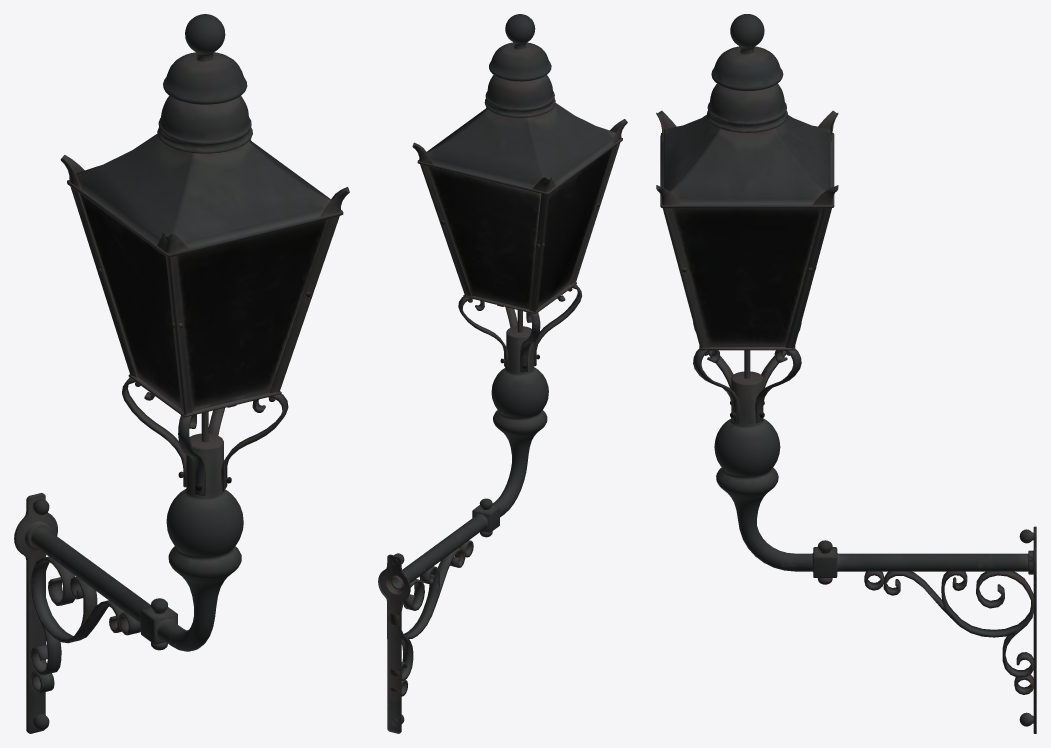
File: street_lamp_02.glb
3 renders of one model, left to right at view 1: azimuth 30°, elevation 25°; view 2: azimuth 150°, elevation 25°; view 3: azimuth 270°, elevation 25°, orthographic. The views are drawn at different scales.
Parts seen in each view (by area): view 1: street_lamp_02; view 2: street_lamp_02; view 3: street_lamp_02.
Part boxes in pixels (x1=…): street_lamp_02: x1=14, y1=14, x2=349, y2=733; street_lamp_02: x1=378, y1=14, x2=627, y2=733; street_lamp_02: x1=656, y1=14, x2=1036, y2=733.
Bounding box in the file's own units: 0.3865 × 1.67 × 0.8068.
2 materials, 2 textured.
